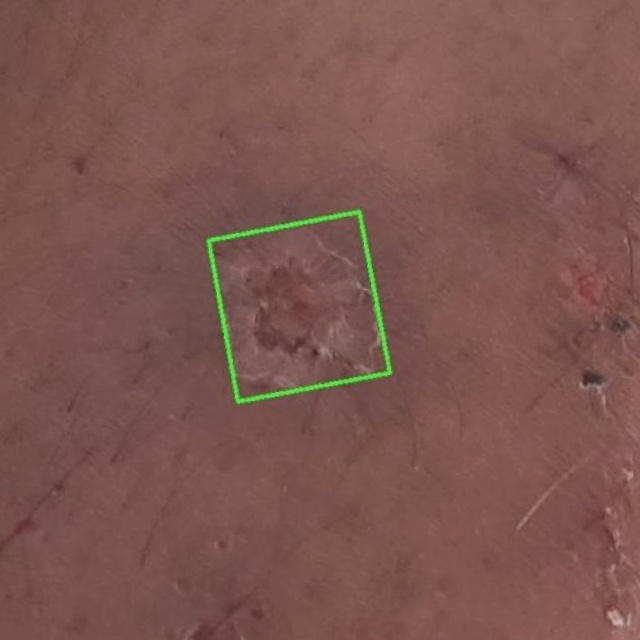Eczema: (207, 211, 389, 401)
